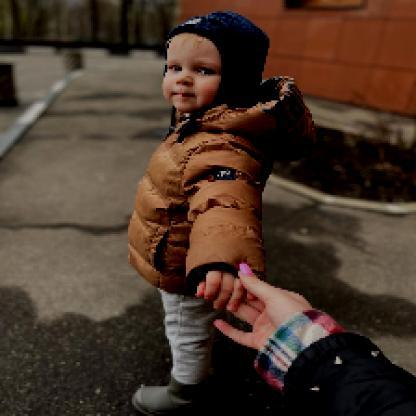child: (127, 10, 319, 415)
